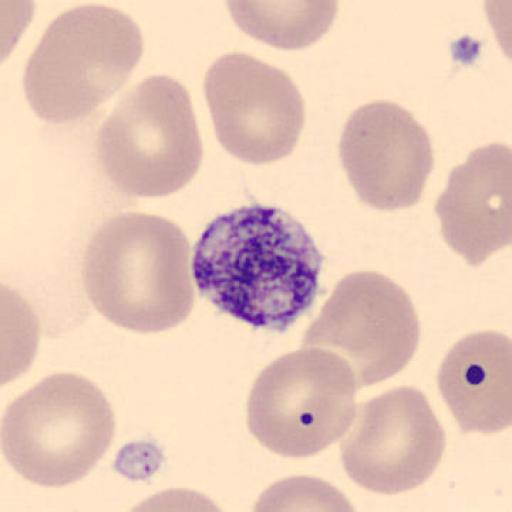Platelet: (190, 202, 325, 333), (462, 362, 488, 388)
RBC: (23, 2, 145, 126), (80, 210, 196, 336), (299, 269, 422, 387), (1, 370, 117, 490), (95, 74, 205, 200), (244, 346, 359, 461), (339, 385, 449, 497), (202, 51, 307, 166), (336, 98, 435, 214), (435, 139, 512, 267), (436, 327, 512, 436), (223, 0, 339, 51), (248, 472, 361, 512), (2, 282, 42, 388), (115, 485, 238, 512), (2, 0, 36, 65), (482, 1, 512, 68)
